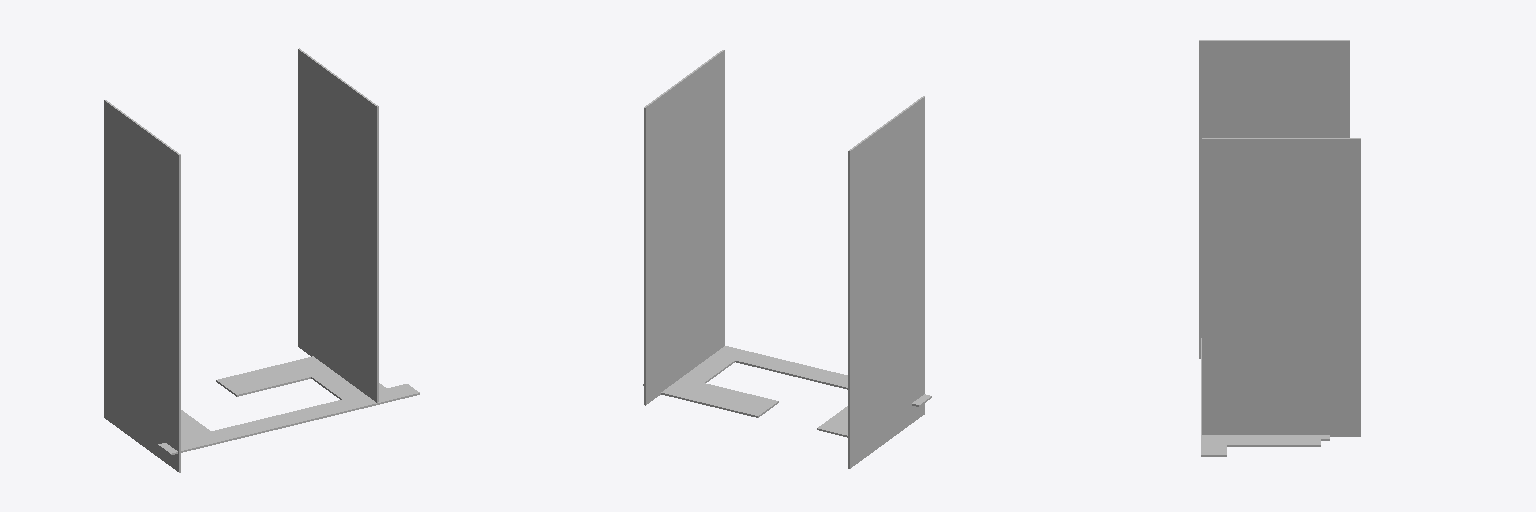
Rendered from wallsfixed.obj.
3 renders of one model, left to right at view 1: azimuth 30°, elevation 25°; view 2: azimuth 150°, elevation 25°; view 3: azimuth 270°, elevation 25°, orthographic.
Parts seen in each view (by area): view 1: Cube.001, Cube.002, Cube.007, Cube.025, Cube.026; view 2: Cube.001, Cube.002, Cube.007, Cube.025, Cube.026; view 3: Cube.002, Cube.001, Cube.026, Cube.007.
Part boxes in pixels (bbox=[...]): Cube.001: bbox=[104, 100, 180, 472]; Cube.002: bbox=[298, 48, 378, 402]; Cube.007: bbox=[158, 384, 419, 454]; Cube.025: bbox=[216, 356, 333, 396]; Cube.026: bbox=[302, 367, 386, 399]; Cube.001: bbox=[848, 96, 924, 468]; Cube.002: bbox=[644, 50, 724, 405]; Cube.007: bbox=[713, 346, 931, 406]; Cube.025: bbox=[661, 383, 778, 417]; Cube.026: bbox=[643, 355, 734, 394]; Cube.002: bbox=[1202, 138, 1360, 436]; Cube.001: bbox=[1199, 40, 1349, 358]; Cube.026: bbox=[1226, 435, 1320, 446]; Cube.007: bbox=[1201, 338, 1226, 456].
Bounding box in the file's own units: 6.17 × 7.51 × 3.45.